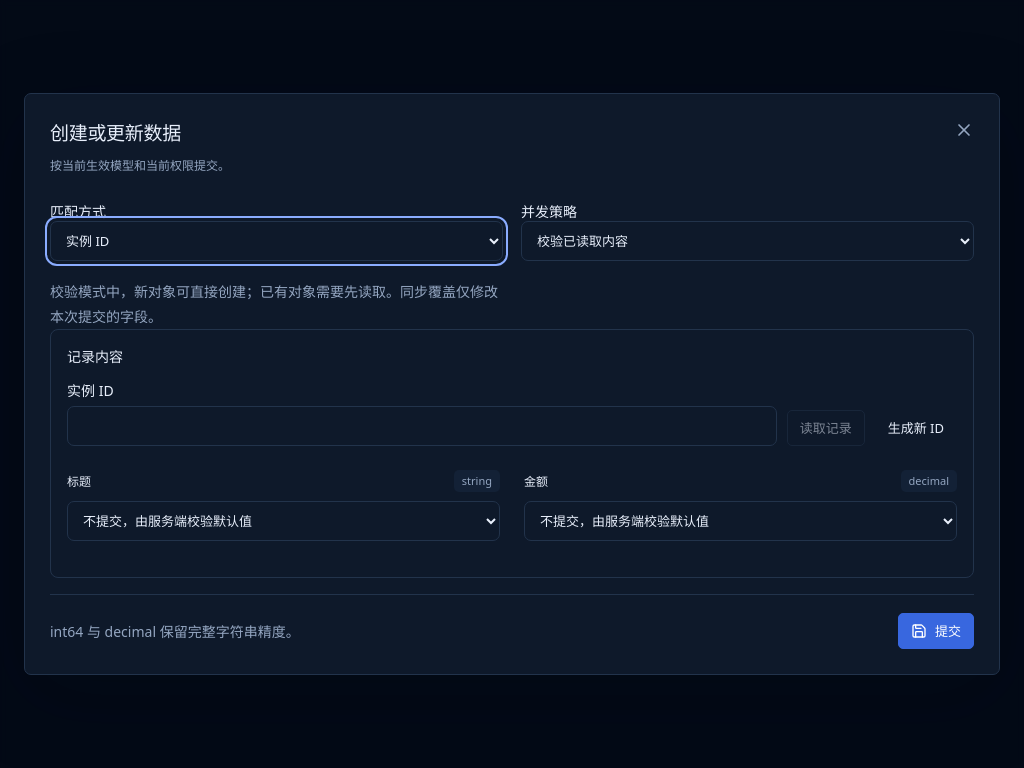
Test: 对象八个内置写操作 › 覆盖权限更窄时仅收窄覆盖字段及唯一键，旧能力响应关闭覆盖选项
expect the option "同步覆盖提交字段" is not shown: met
expect the dropdown named "金额的写入方式" is shown: met, box 524,501 -> 957,541
Select "标题唯一键" in the dropdown labelled "匹配方式": [276, 241] box 50,221 -> 503,261
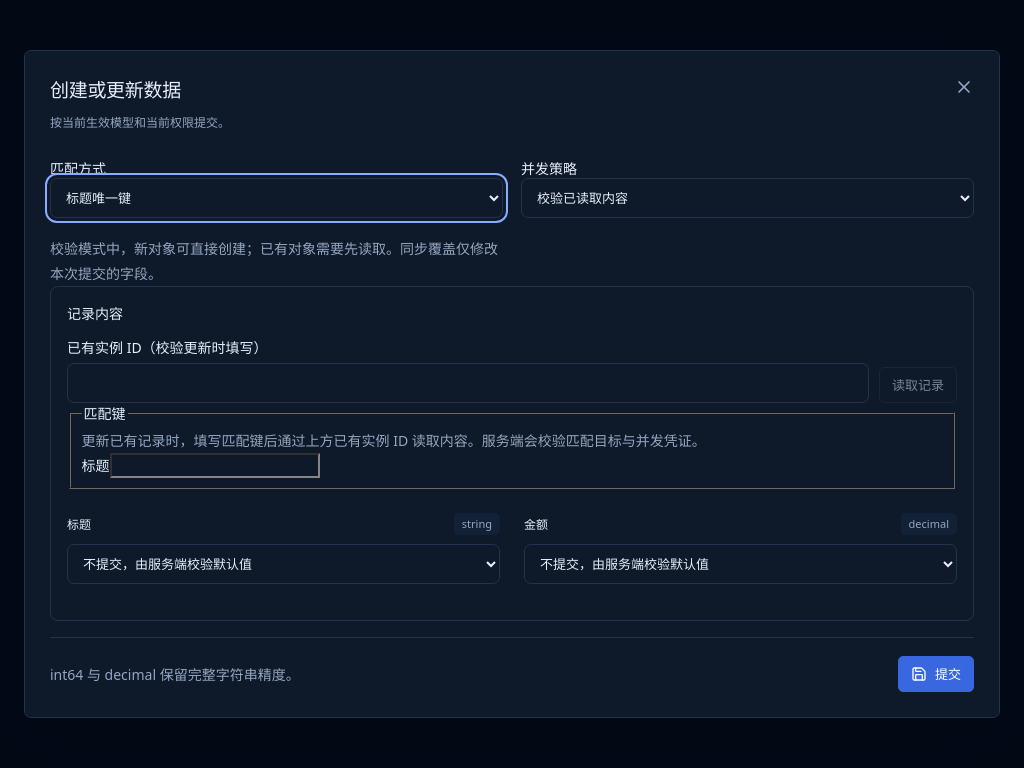
Select "同步覆盖提交字段" in the dropdown labelled "并发策略": [748, 198] box 521,178 -> 974,218
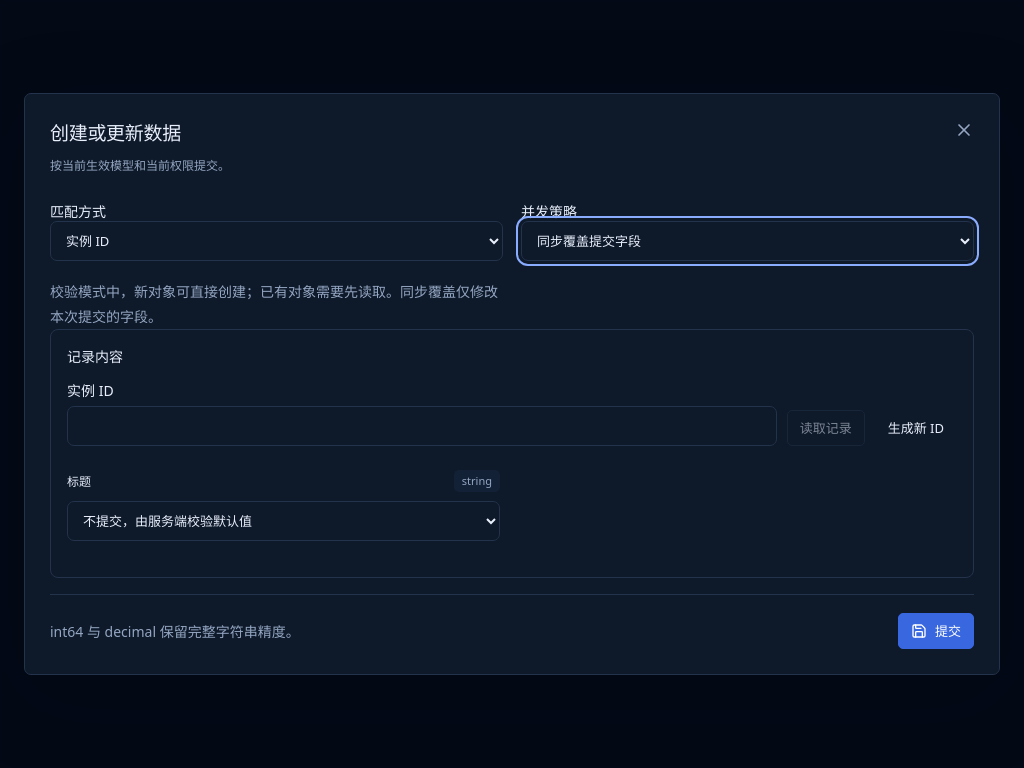
expect the option "标题唯一键" is not shown: met
expect the dropdown labelled "金额的写入方式" is gone: met
Select "校验已读取内容" in the dropdown labelled "并发策略": [748, 241] box 521,221 -> 974,261
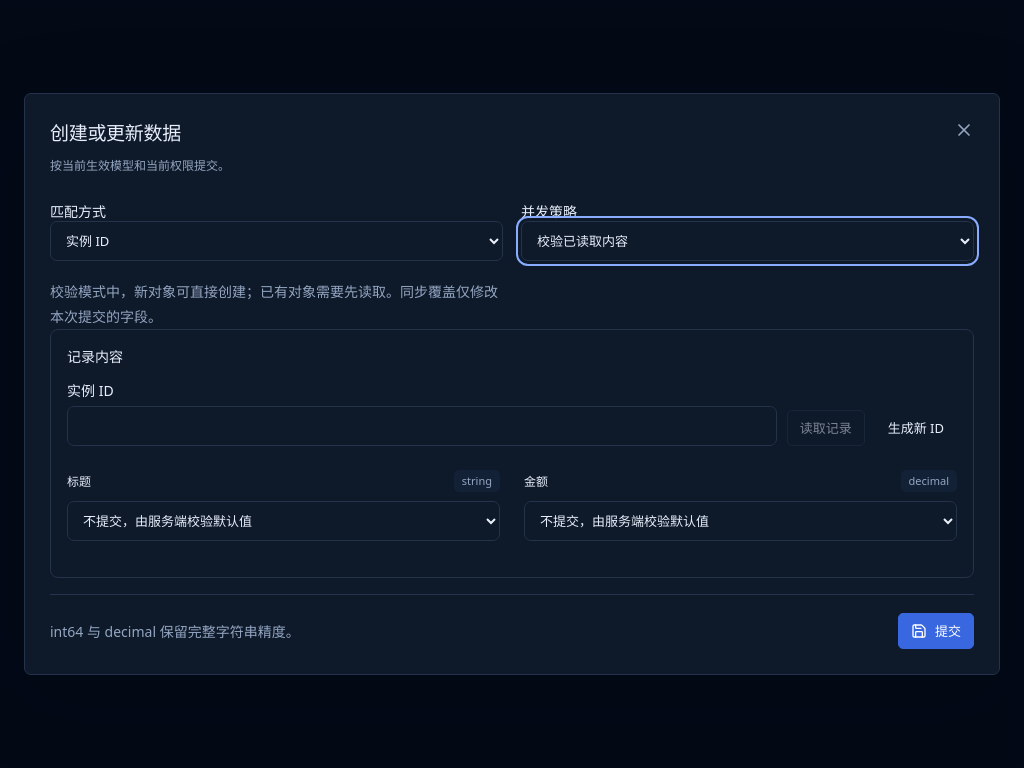
expect the dropdown named "金额的写入方式" is shown: met, box 524,501 -> 957,541
